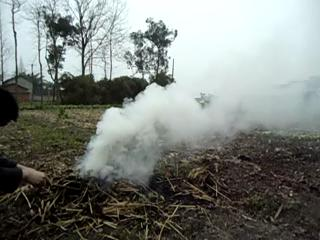yanwu: (78, 50, 306, 181)
